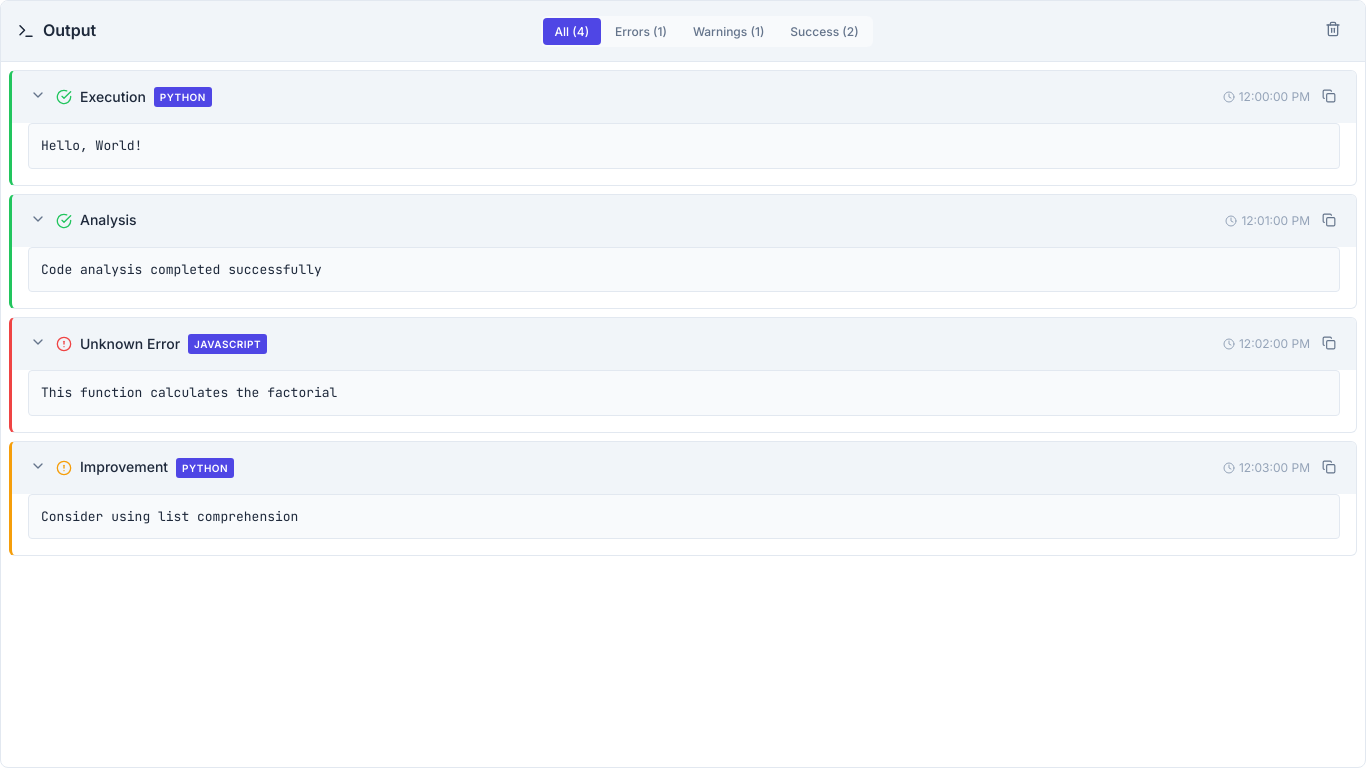
Test: OutputPanel Component › Tab Filtering › should filter to errors only when errors tab is clicked
Click the button "Errors (1)" at (641, 31), box left=603, top=18, right=679, bottom=44
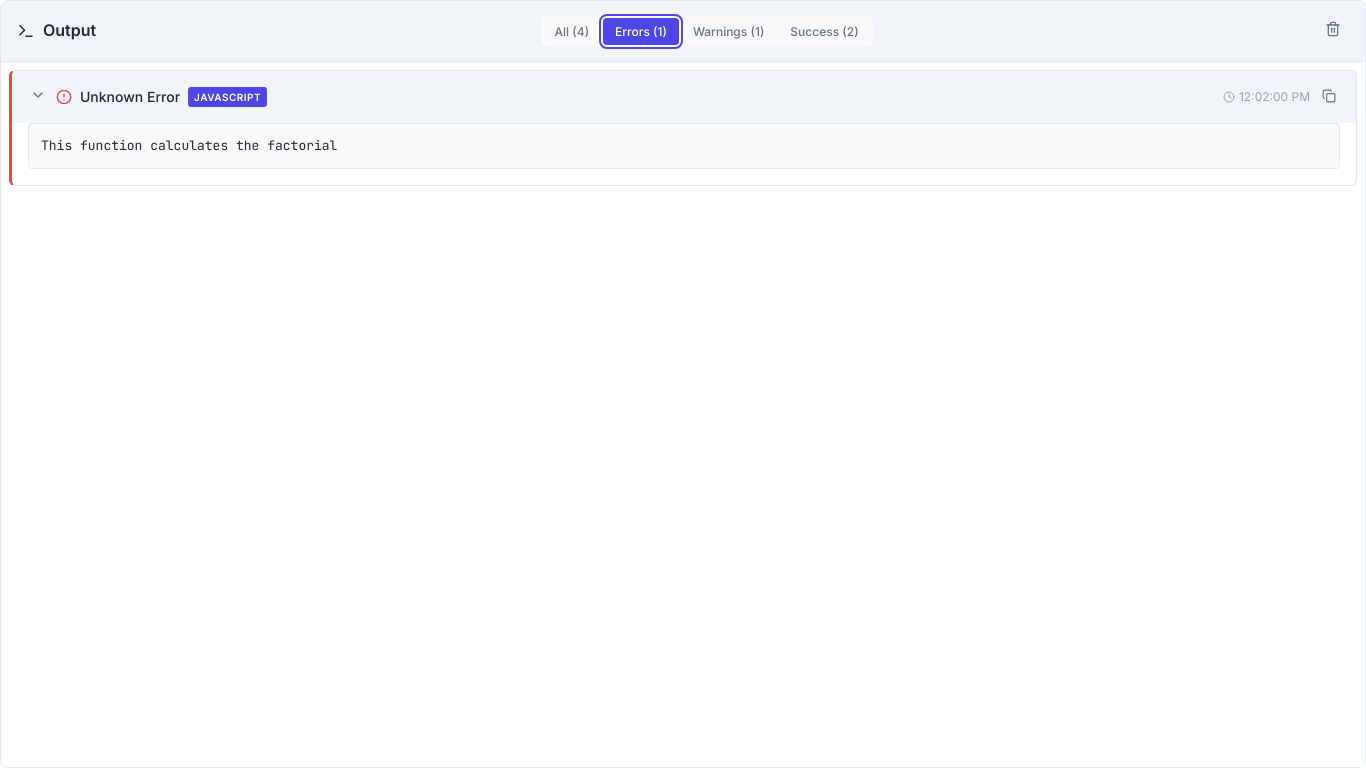
Expected: the text "Hello, World!" is gone
Expected: the text "Code analysis completed successfully" is gone
Expected: the text "Consider using list comprehension" is gone
